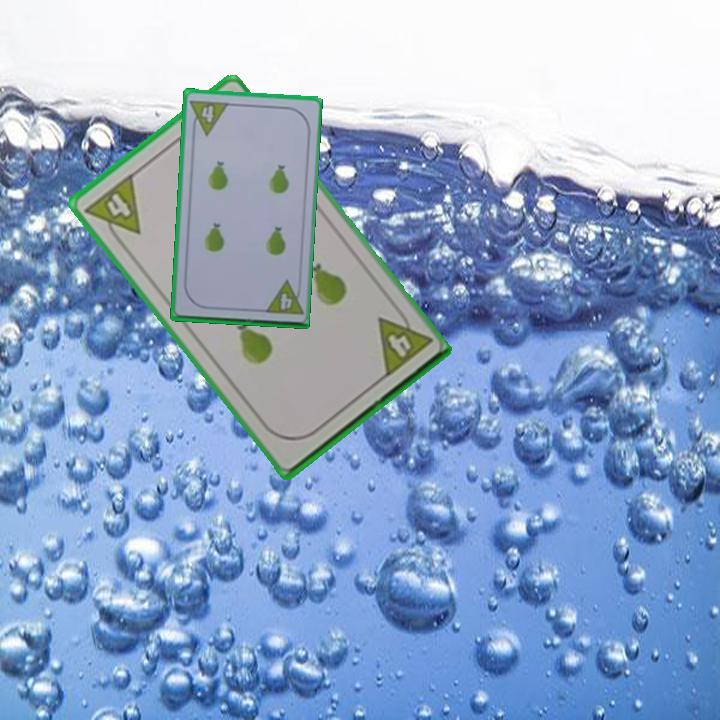4p: (81, 170, 144, 250), (373, 302, 434, 381), (186, 96, 231, 138), (260, 278, 305, 318)
